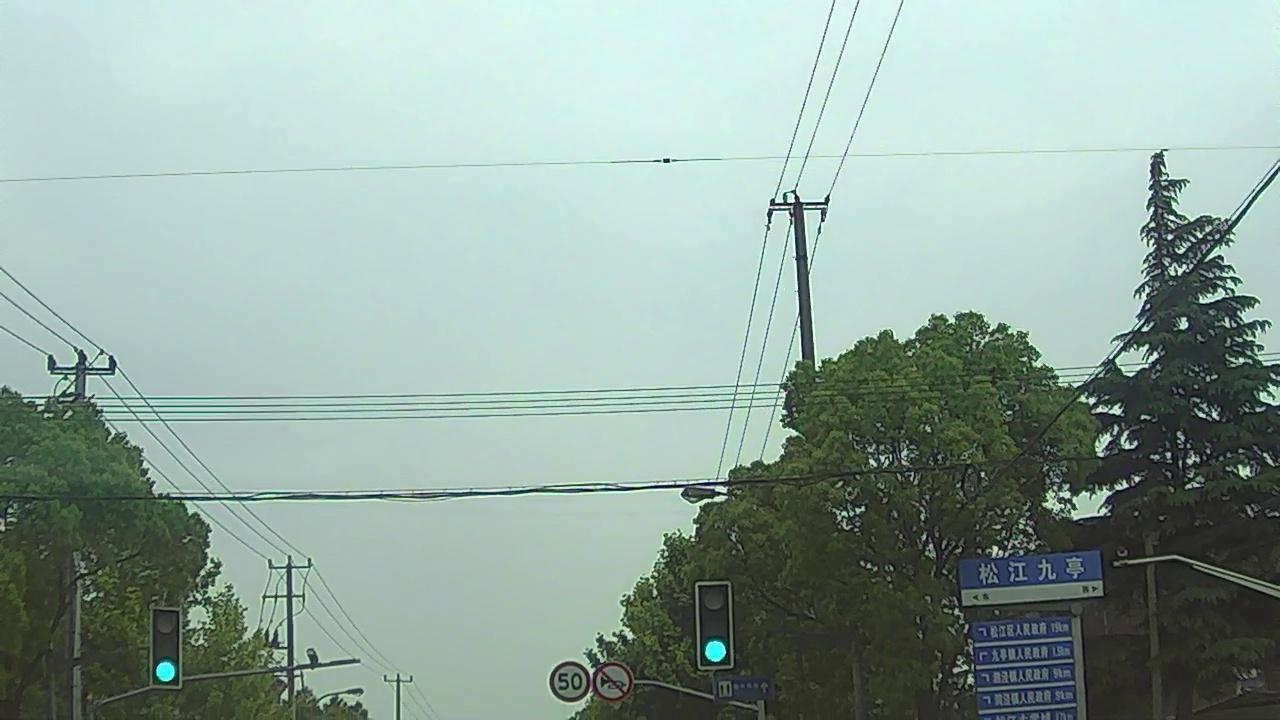traffic_light: (703, 584, 731, 666), (156, 607, 180, 684)
